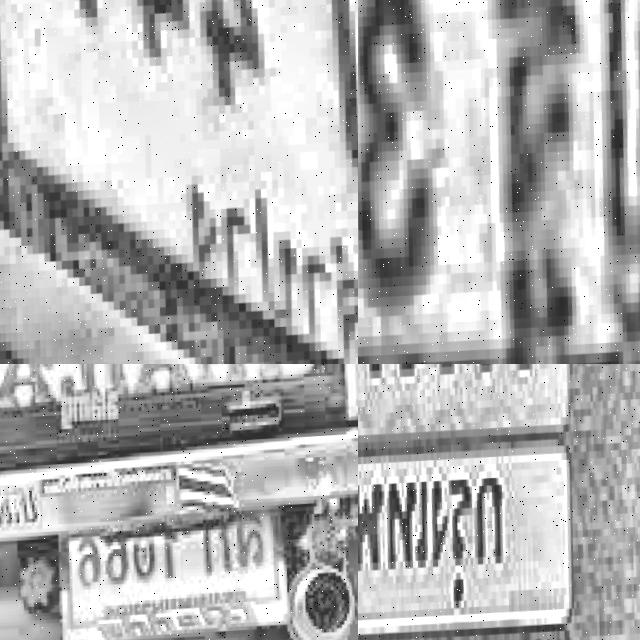license-plate: (0, 0, 358, 364), (358, 0, 640, 364), (358, 364, 640, 640), (54, 488, 299, 640)
